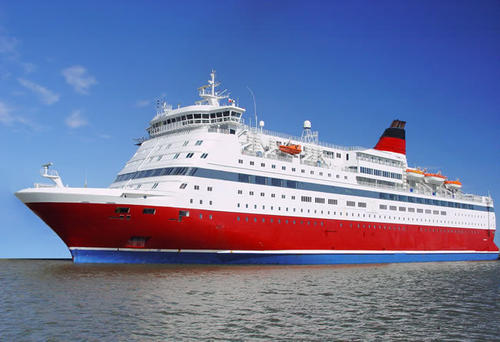Cargoship: (15, 70, 500, 264)
